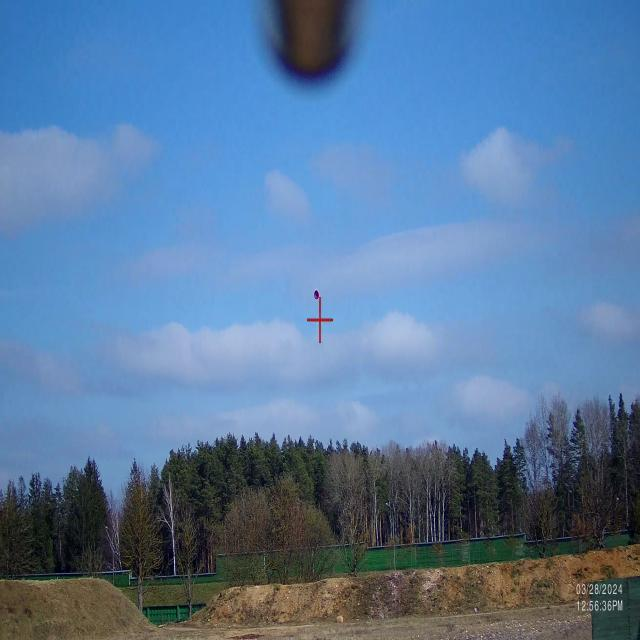entire: (309, 284, 324, 302)
